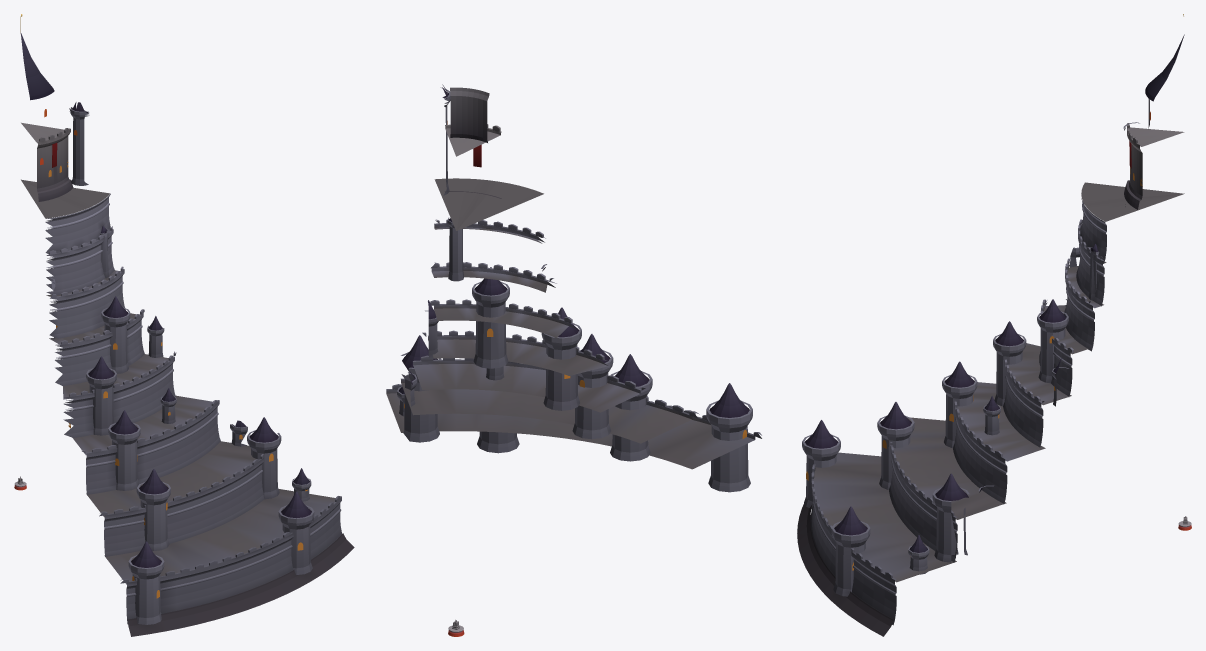
File: fortress-s1-M8NikwKP.glb
3 views of the same model, side by side, from view 1: azimuth 30°, elevation 25°; view 2: azimuth 150°, elevation 25°; view 3: azimuth 270°, elevation 25° (orthographic). The views are drawn at different scales.
Parts seen in each view (by area): view 1: sc_landmark_5; view 2: sc_landmark_5; view 3: sc_landmark_5.
Boxes of the visible parts, bbox=[...] form: sc_landmark_5: bbox=[20, 14, 354, 636]; sc_landmark_5: bbox=[386, 84, 761, 492]; sc_landmark_5: bbox=[797, 14, 1184, 636].
Bounding box in the file's own units: 275 × 479 × 329.
